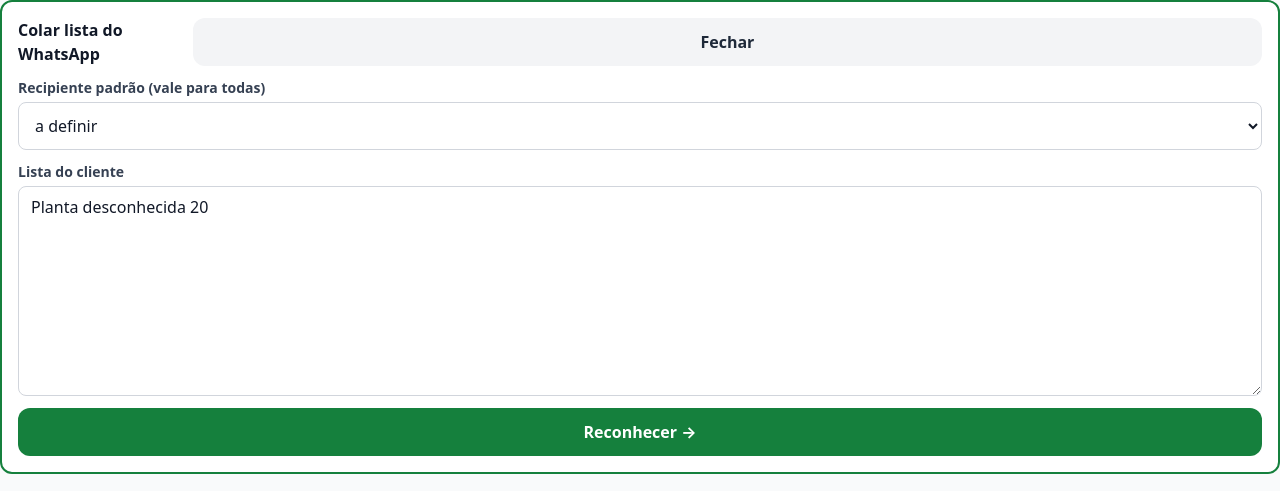
Test: conferência da lista colada (T8.16) › escolher a espécie pela lista resolve a linha que não casou
The image size is (1280, 491).
Select "Tubete" in the dropdown labelled "Recipiente padrão (vale para todas)" at [640, 126], box [18,102,1262,150]
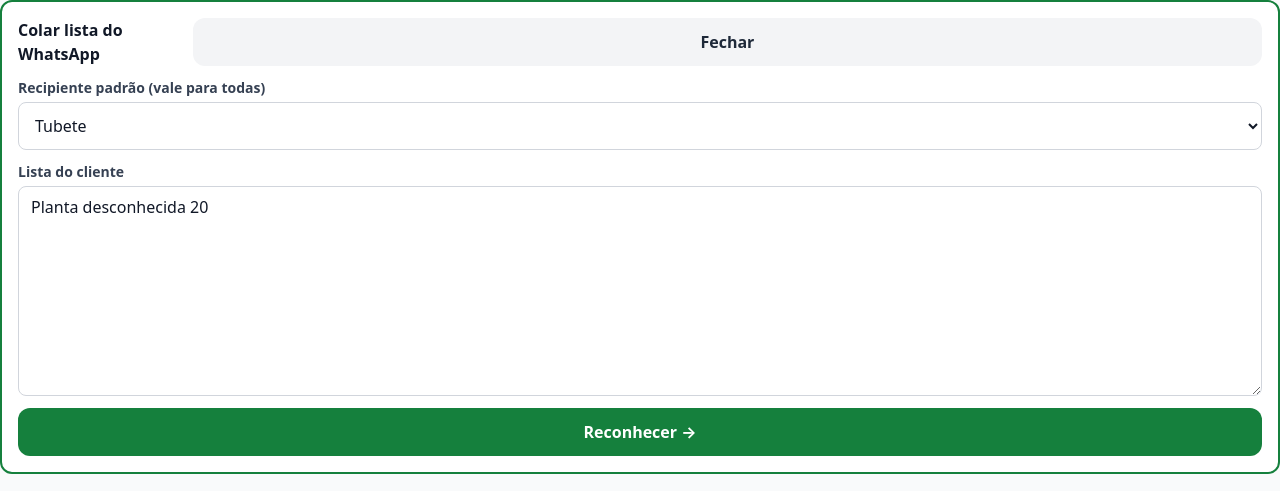
Click the button "Reconhecer →" at [640, 432], box [18,408,1262,456]
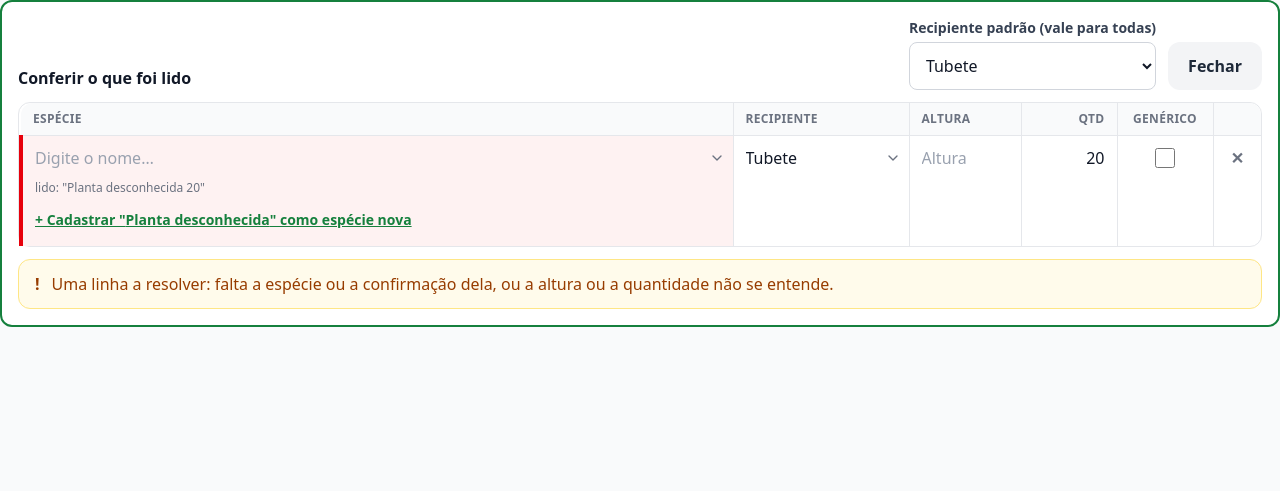
Focus the field named "Espécie da linha 1" at [378, 158], box [23,136,732,180]
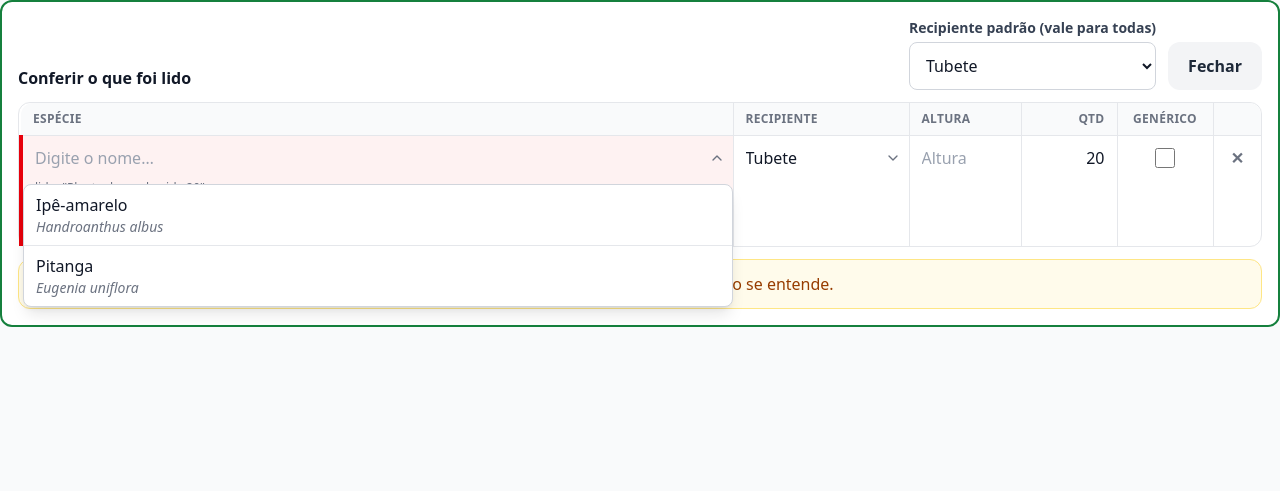
Press the mouse on the button "Pitanga Eugenia uniflora" at [65, 266], box [24,246,732,306]
Click the button "Pitanga Eugenia uniflora" at [65, 266], box [24,246,732,306]
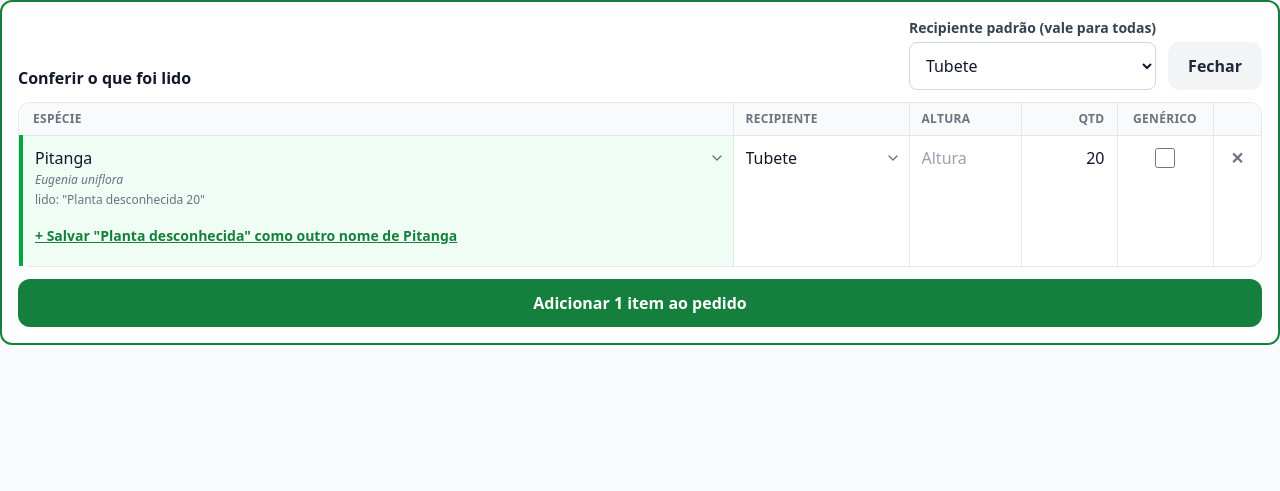
Now the field named "Espécie da linha 1" next to "Eugenia uniflora" holds "Pitanga", box [23,136,732,180]
Now the button "Adicionar 1 item ao pedido" is shown, box [18,279,1262,327]
